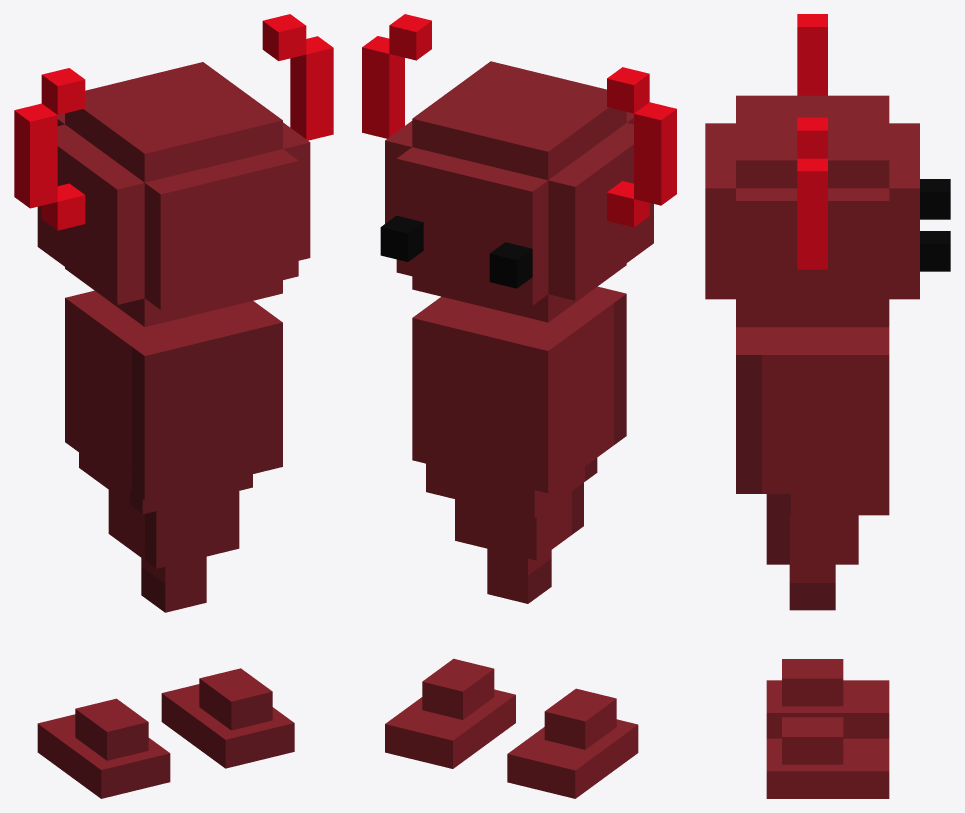
File: outrage_fullbody.glb
3 renders of one model, left to right at view 1: azimuth 30°, elevation 25°; view 2: azimuth 150°, elevation 25°; view 3: azimuth 270°, elevation 25°, orthographic. The views are drawn at different scales.
Parts seen in each view (by area): view 1: Torso_Upper, Back_Panel, Head_Solid, Left_Panel, Torso_Lower, Foot_Left_Sole, Foot_Right_Sole, Foot_Right_Ankle, Foot_Left_Ankle, Torso_Tip, Torso_Step, Right_Panel (+9 smaller); view 2: Torso_Upper, Head_Solid, Front_Panel, Left_Panel, Foot_Left_Sole, Foot_Right_Sole, Torso_Lower, Torso_Step, Foot_Right_Ankle, Foot_Left_Ankle, Torso_Tip, Eye_Left (+11 smaller); view 3: Torso_Upper, Right_Panel, Head_Solid, Foot_Right_Sole, Front_Panel, Back_Panel, Torso_Lower, Foot_Left_Sole, Foot_Right_Ankle, Foot_Left_Ankle, Torso_Step, Torso_Tip (+10 smaller).
Boxes of the visible parts, left/top/right/bottom form: Torso_Upper: left=65, top=290, right=282, bottom=500; Back_Panel: left=144, top=149, right=298, bottom=309; Head_Solid: left=65, top=62, right=282, bottom=326; Left_Panel: left=37, top=124, right=144, bottom=304; Torso_Lower: left=108, top=490, right=239, bottom=568; Foot_Left_Sole: left=37, top=714, right=170, bottom=798; Foot_Right_Sole: left=161, top=684, right=294, bottom=768; Foot_Right_Ankle: left=199, top=668, right=272, bottom=730; Foot_Left_Ankle: left=75, top=698, right=148, bottom=760; Torso_Tip: left=141, top=556, right=206, bottom=612; Torso_Step: left=79, top=452, right=252, bottom=514; Right_Panel: left=283, top=122, right=310, bottom=260; Torso_Upper: left=412, top=286, right=626, bottom=493; Head_Solid: left=412, top=61, right=626, bottom=322; Front_Panel: left=396, top=147, right=548, bottom=305; Left_Panel: left=548, top=123, right=653, bottom=300; Foot_Left_Sole: left=507, top=719, right=638, bottom=798; Foot_Right_Sole: left=385, top=689, right=515, bottom=768; Torso_Lower: left=455, top=483, right=583, bottom=560; Torso_Step: left=426, top=458, right=597, bottom=518; Foot_Right_Ankle: left=422, top=658, right=494, bottom=719; Foot_Left_Ankle: left=544, top=688, right=616, bottom=749; Torso_Tip: left=487, top=548, right=551, bottom=603; Eye_Left: left=489, top=242, right=532, bottom=288; Torso_Upper: left=736, top=327, right=889, bottom=493; Right_Panel: left=736, top=188, right=889, bottom=312; Head_Solid: left=736, top=95, right=889, bottom=327; Foot_Right_Sole: left=766, top=738, right=889, bottom=798; Front_Panel: left=889, top=123, right=919, bottom=299; Back_Panel: left=705, top=123, right=735, bottom=299; Torso_Lower: left=766, top=515, right=858, bottom=564; Foot_Left_Sole: left=766, top=680, right=889, bottom=738; Foot_Right_Ankle: left=782, top=717, right=843, bottom=764; Foot_Left_Ankle: left=782, top=659, right=843, bottom=706; Torso_Step: left=766, top=494, right=889, bottom=515; Torso_Tip: left=789, top=564, right=835, bottom=610.
Bounding box in the file's own units: 1.54 × 3.43 × 1.12.
Materials: 2 (2 with a texture image).
